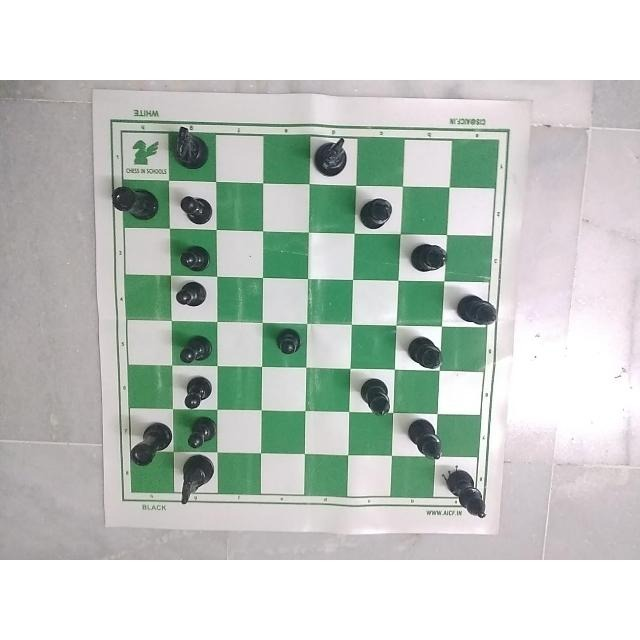black-bishop: (444, 461, 494, 522), (454, 287, 506, 333), (402, 420, 444, 464), (359, 195, 404, 231), (410, 239, 450, 278), (361, 374, 393, 420), (407, 336, 442, 376)
black-knight: (312, 124, 356, 179), (176, 454, 220, 508), (170, 116, 211, 172)
black-pawn: (164, 234, 219, 274), (173, 275, 219, 314), (175, 191, 217, 233), (171, 336, 219, 371), (185, 410, 221, 450), (181, 373, 217, 411), (273, 322, 305, 364)
black-rook: (125, 417, 173, 467), (110, 183, 159, 223)
